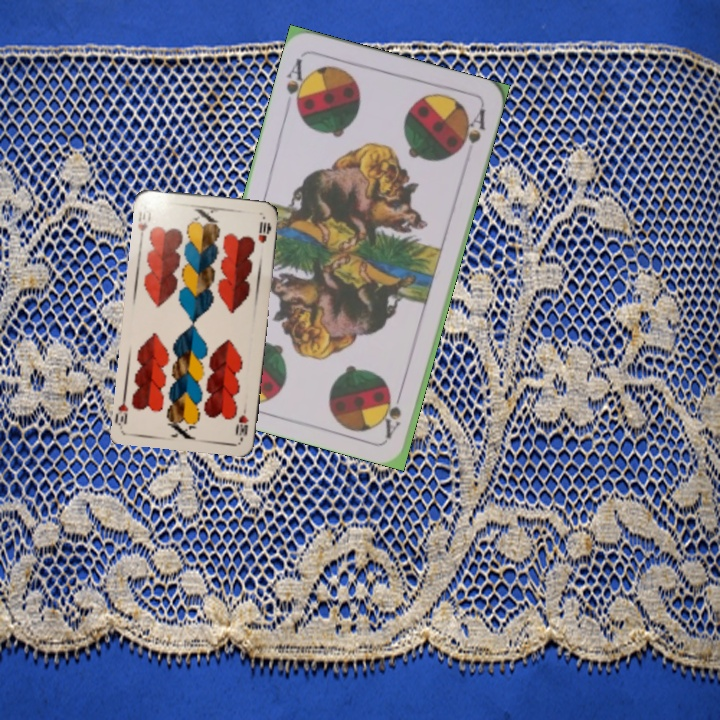H10: (134, 205, 155, 242), (233, 402, 251, 438)
SA: (282, 54, 312, 114), (380, 382, 407, 440)
